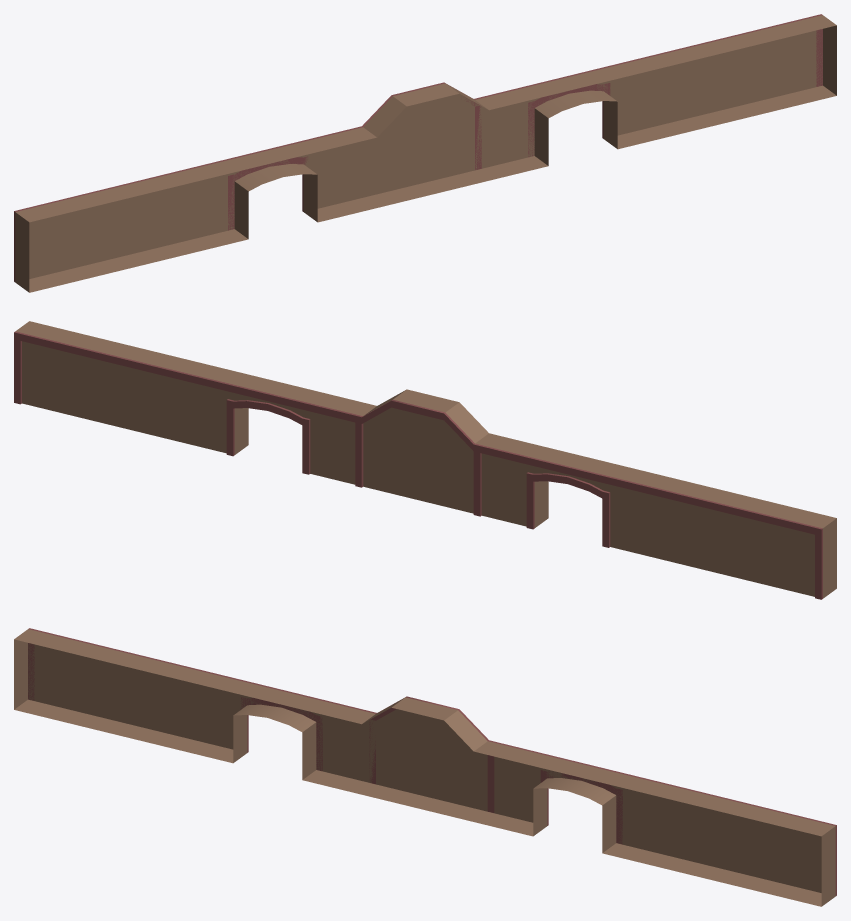
The model's file is backwall.fbx.
The picture shows the model from 3 angles, top to bottom: view 1: azimuth 30°, elevation 25°; view 2: azimuth 150°, elevation 25°; view 3: azimuth 330°, elevation 25°; orthographic projection.
Parts seen in each view (by area): view 1: front1; view 2: front1; view 3: front1.
Boxes of the visible parts, x1,y1,x2,y2 form: front1: (14,14,836,292); front1: (14,321,836,599); front1: (14,628,836,906).
Bounding box in the file's own units: 4793 × 535 × 159.
